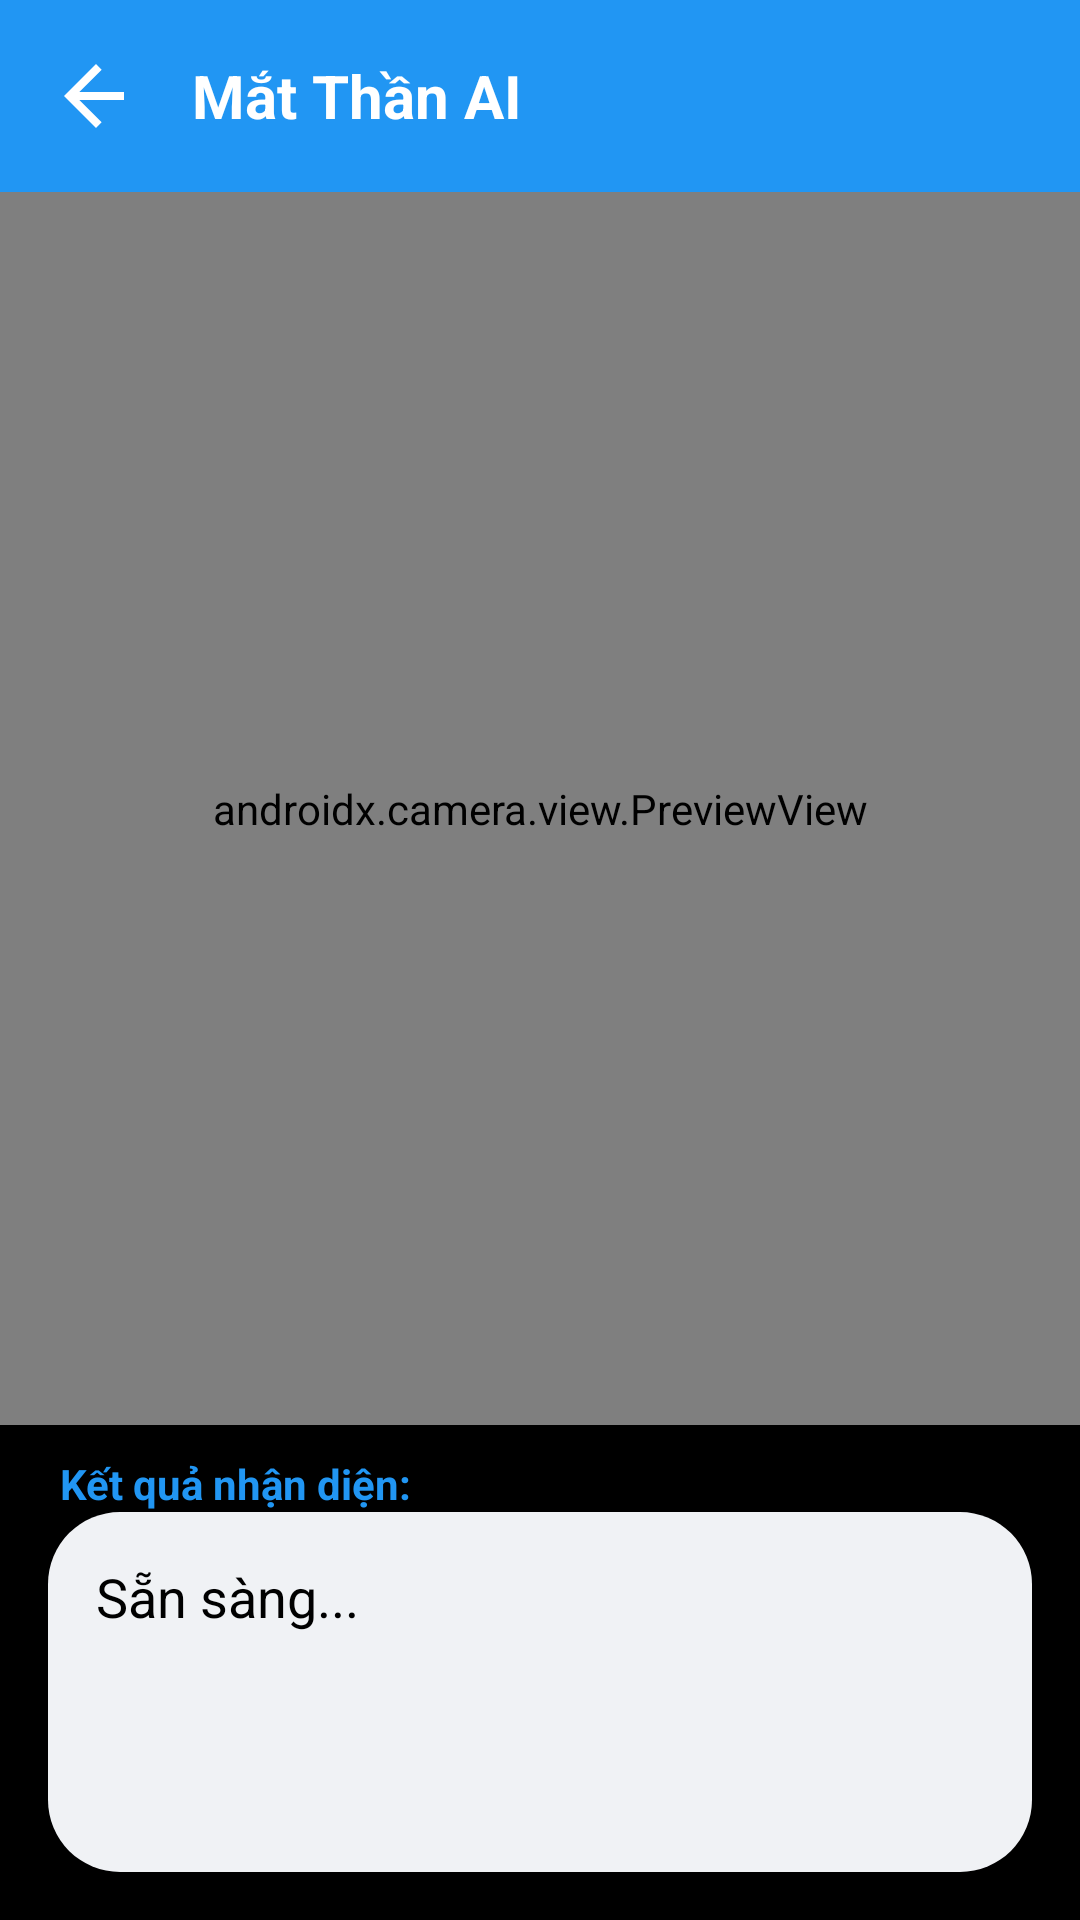

Icons on this 1080px×1920px Android screen, each with its box as bbox=(x1, y1, x2, y2):
Quay lại: bbox=(64, 64, 124, 128)
